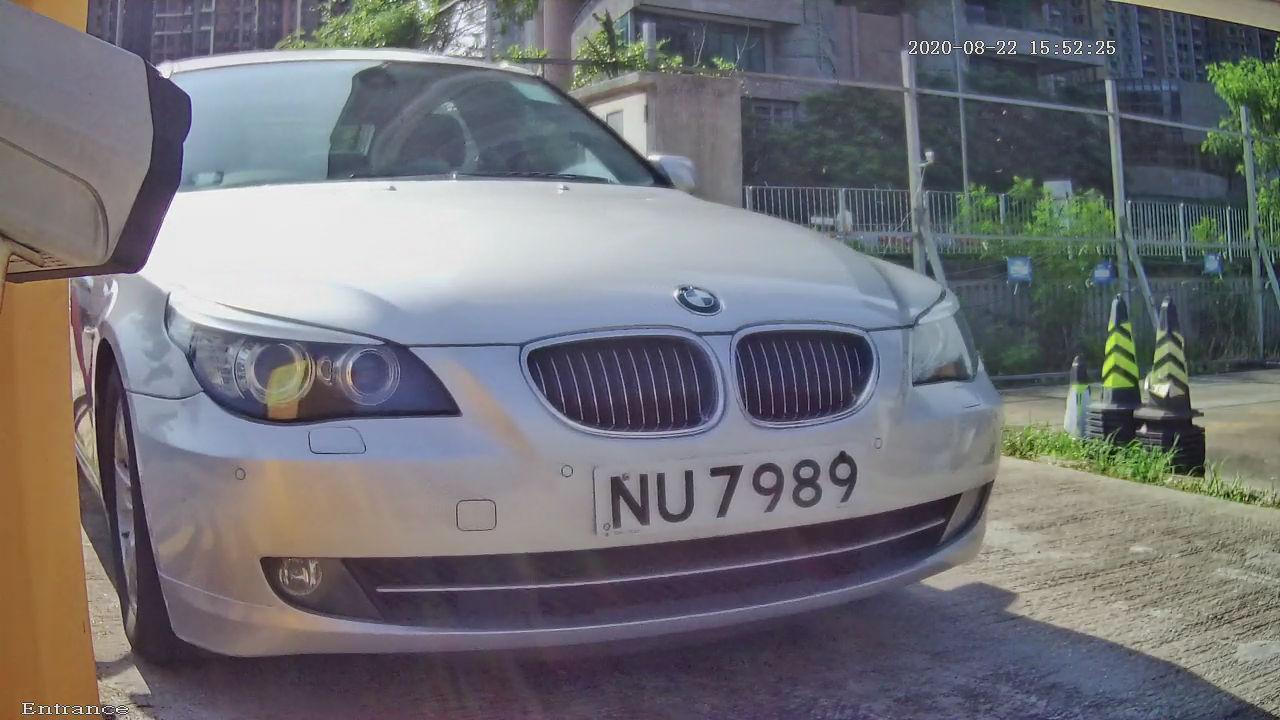Car: (12, 23, 1041, 711)
License Plate: (552, 415, 902, 574)
